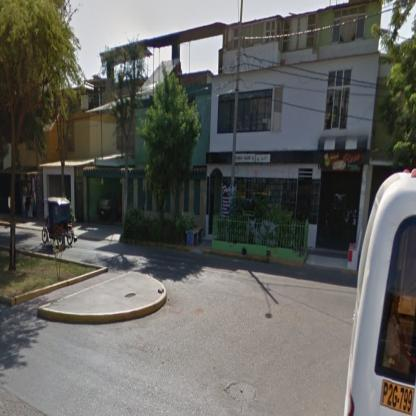Pista: (67, 257, 356, 415)
Vehiculo: (43, 197, 78, 248)
